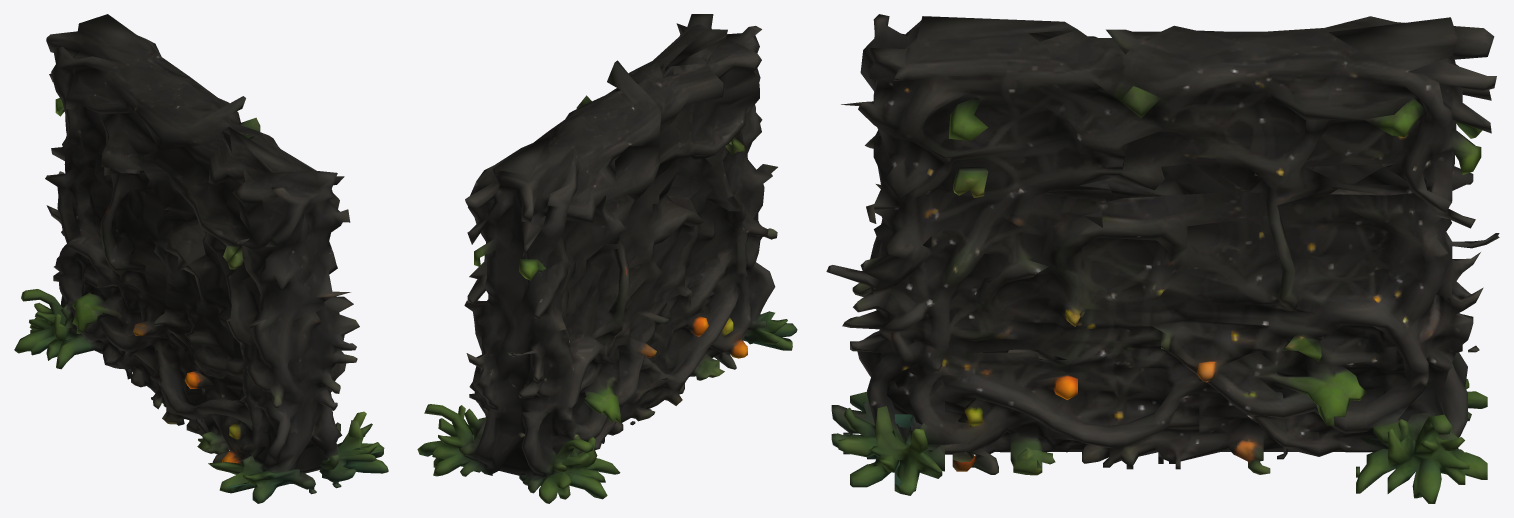
The picture shows the model from 3 angles, left to right: view 1: azimuth 30°, elevation 25°; view 2: azimuth 150°, elevation 25°; view 3: azimuth 270°, elevation 25°; orthographic projection. The views are drawn at different scales.
Visible parts, largest first — view 1: tripo_node_0042bae9-9469-4c50-b94a-05bfb59ccd4d; view 2: tripo_node_0042bae9-9469-4c50-b94a-05bfb59ccd4d; view 3: tripo_node_0042bae9-9469-4c50-b94a-05bfb59ccd4d.
Part boxes in pixels (x1,y1,x2,y2): tripo_node_0042bae9-9469-4c50-b94a-05bfb59ccd4d: [14, 14, 388, 503]; tripo_node_0042bae9-9469-4c50-b94a-05bfb59ccd4d: [417, 14, 797, 503]; tripo_node_0042bae9-9469-4c50-b94a-05bfb59ccd4d: [826, 14, 1499, 503].
Bounding box in the file's own units: 0.4325 × 0.6986 × 1.
Materials: 1 (1 with a texture image).
